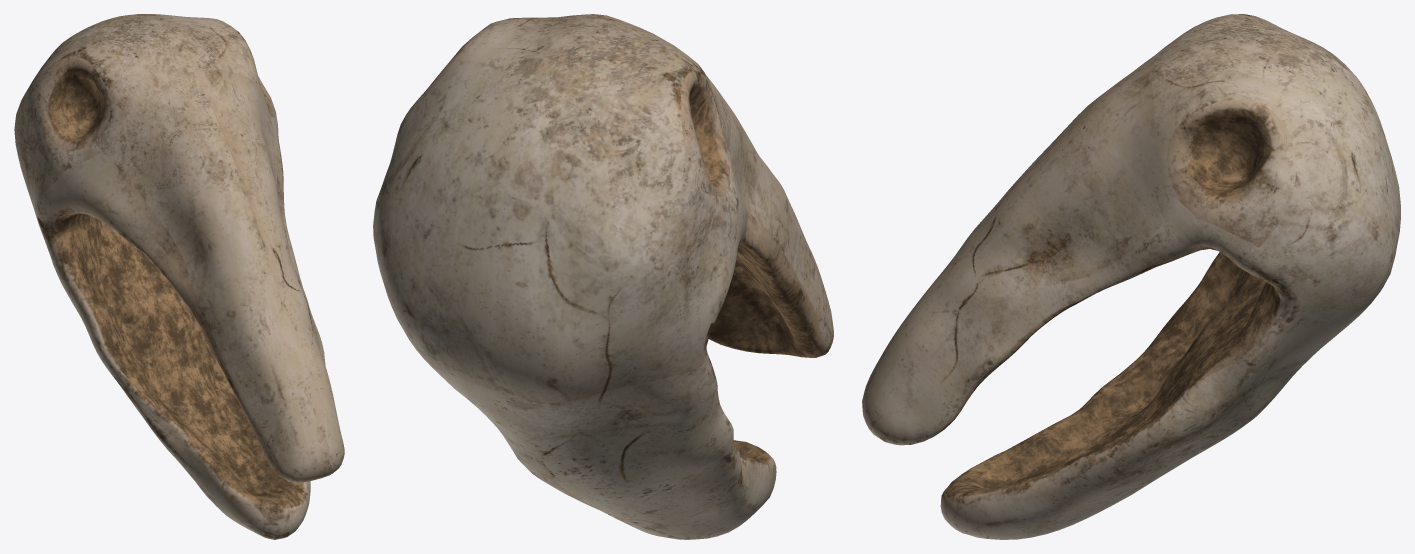
The model's file is CraneSque_low.fbx.
The picture shows the model from 3 angles, left to right: view 1: azimuth 30°, elevation 25°; view 2: azimuth 150°, elevation 25°; view 3: azimuth 270°, elevation 25°; orthographic projection. The views are drawn at different scales.
Parts seen in each view (by area): view 1: Group3091; view 2: Group3091; view 3: Group3091.
Boxes of the visible parts, bbox=[...] form: Group3091: bbox=[14, 14, 344, 539]; Group3091: bbox=[373, 14, 833, 539]; Group3091: bbox=[862, 14, 1400, 539].
Bounding box in the file's own units: 21.88 × 39.45 × 39.33.
